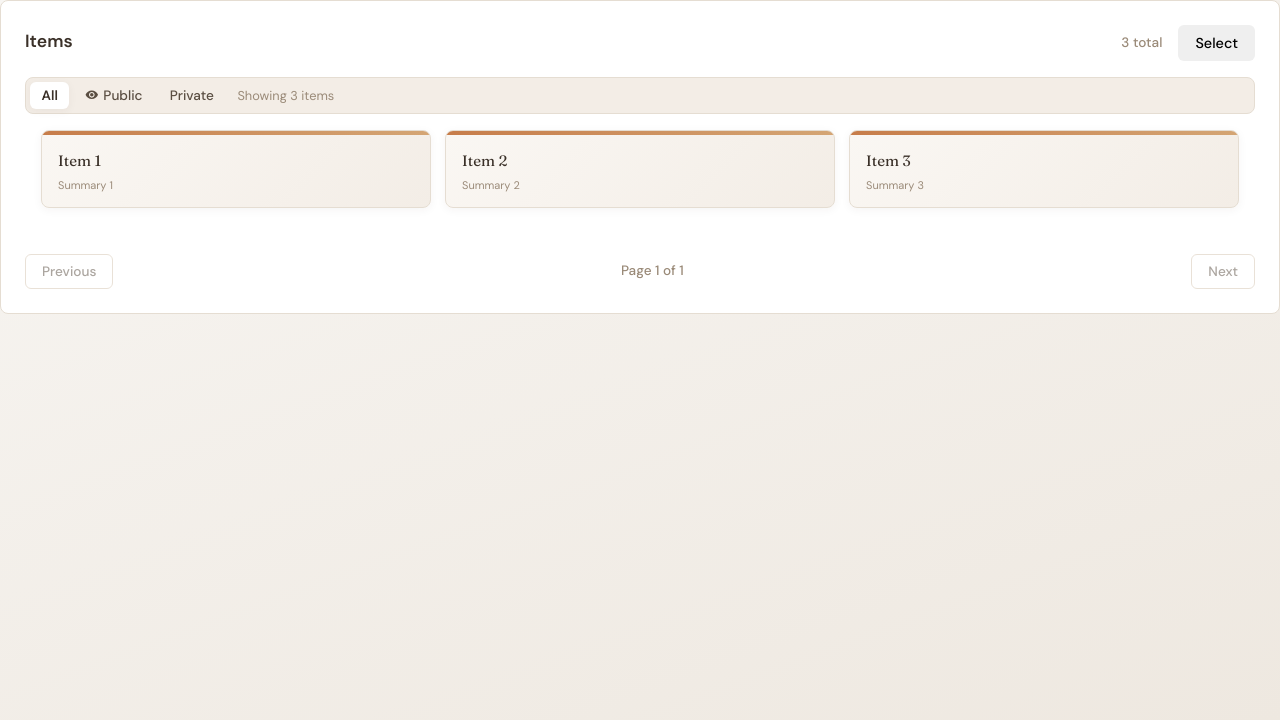
Test case: ItemList › selection mode and bulk actions › should show BulkActionBar when items are selected
Click the button "Select". click: (1217, 43)
box: [1178, 25, 1255, 61]
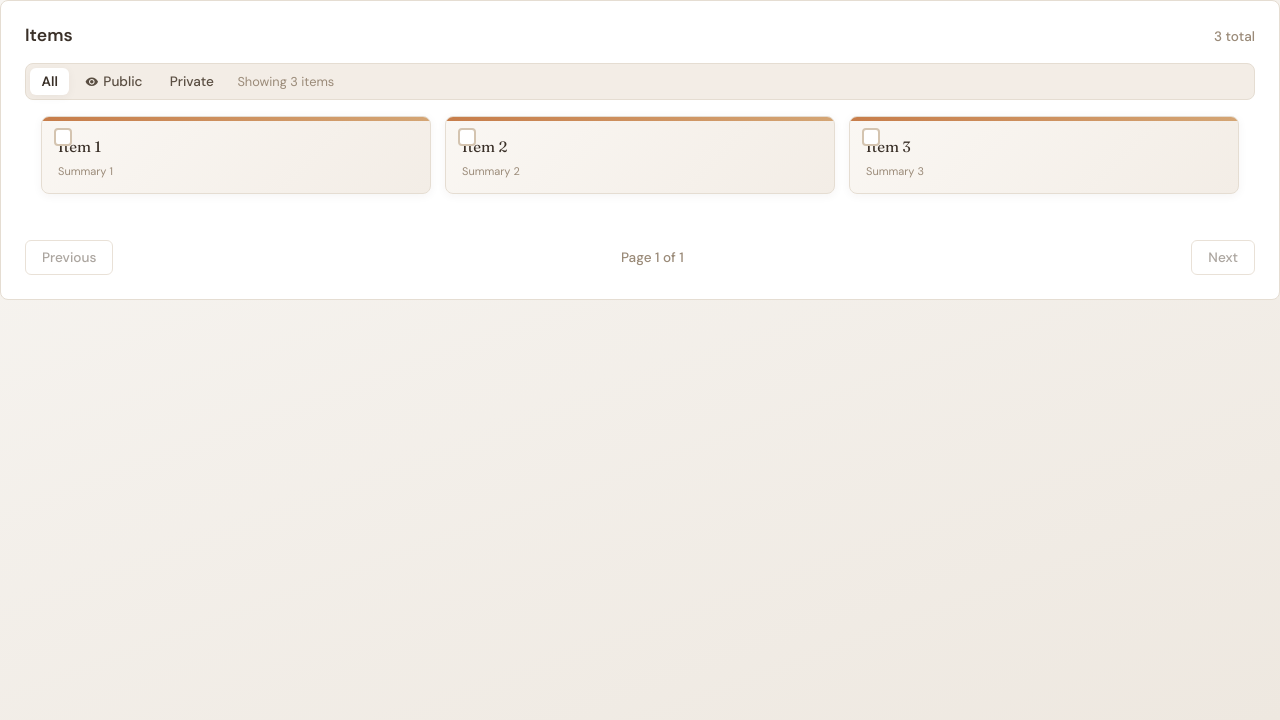
// Click on first item card to select it
Click the button with aria-label "Select Item 1". click: (80, 147)
box: [58, 137, 101, 156]
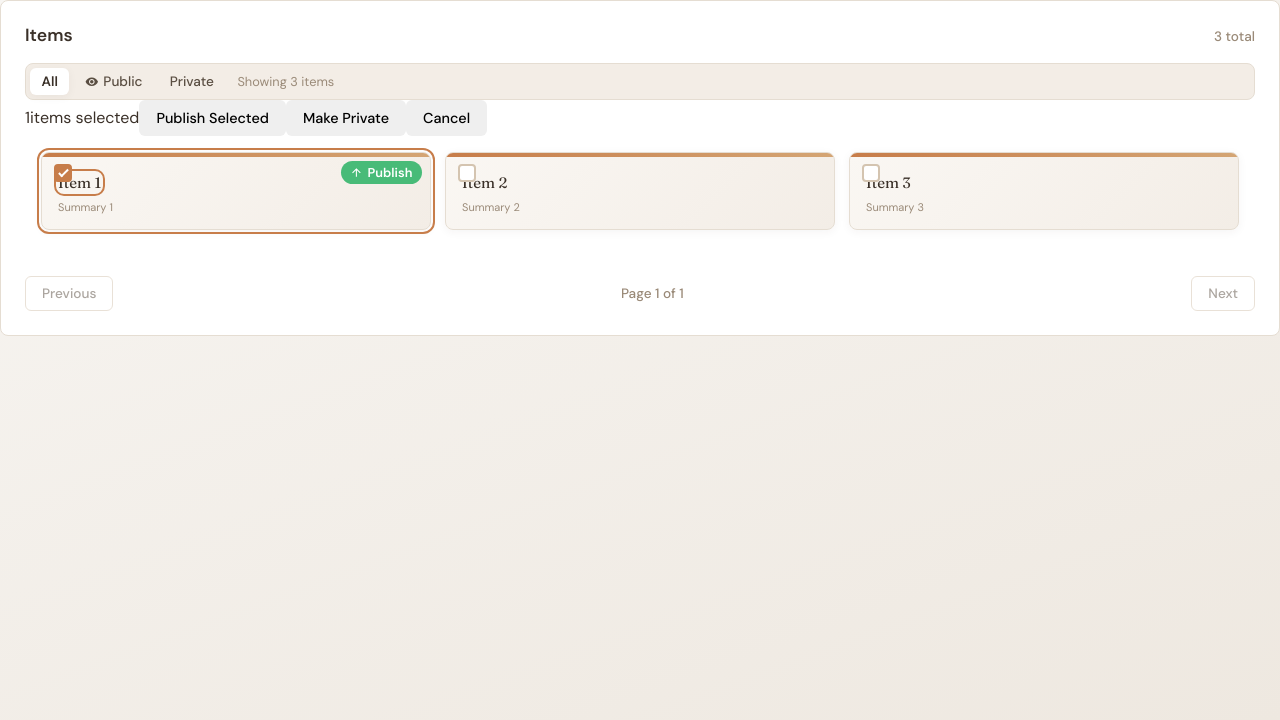
Expected: the button "Publish Selected" is shown, [139, 100, 286, 136]
Expected: the button "Make Private" is shown, [286, 100, 406, 136]
